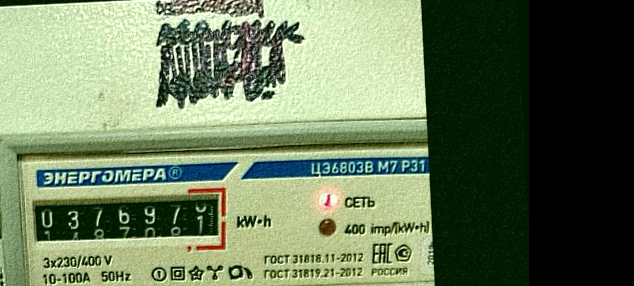0: (38, 206, 55, 228)
1: (195, 213, 207, 235)
3: (65, 207, 80, 231)
6: (117, 203, 131, 224)
7: (91, 203, 105, 228), (168, 201, 182, 225)
9: (142, 202, 156, 225)
screen: (25, 184, 231, 262)
